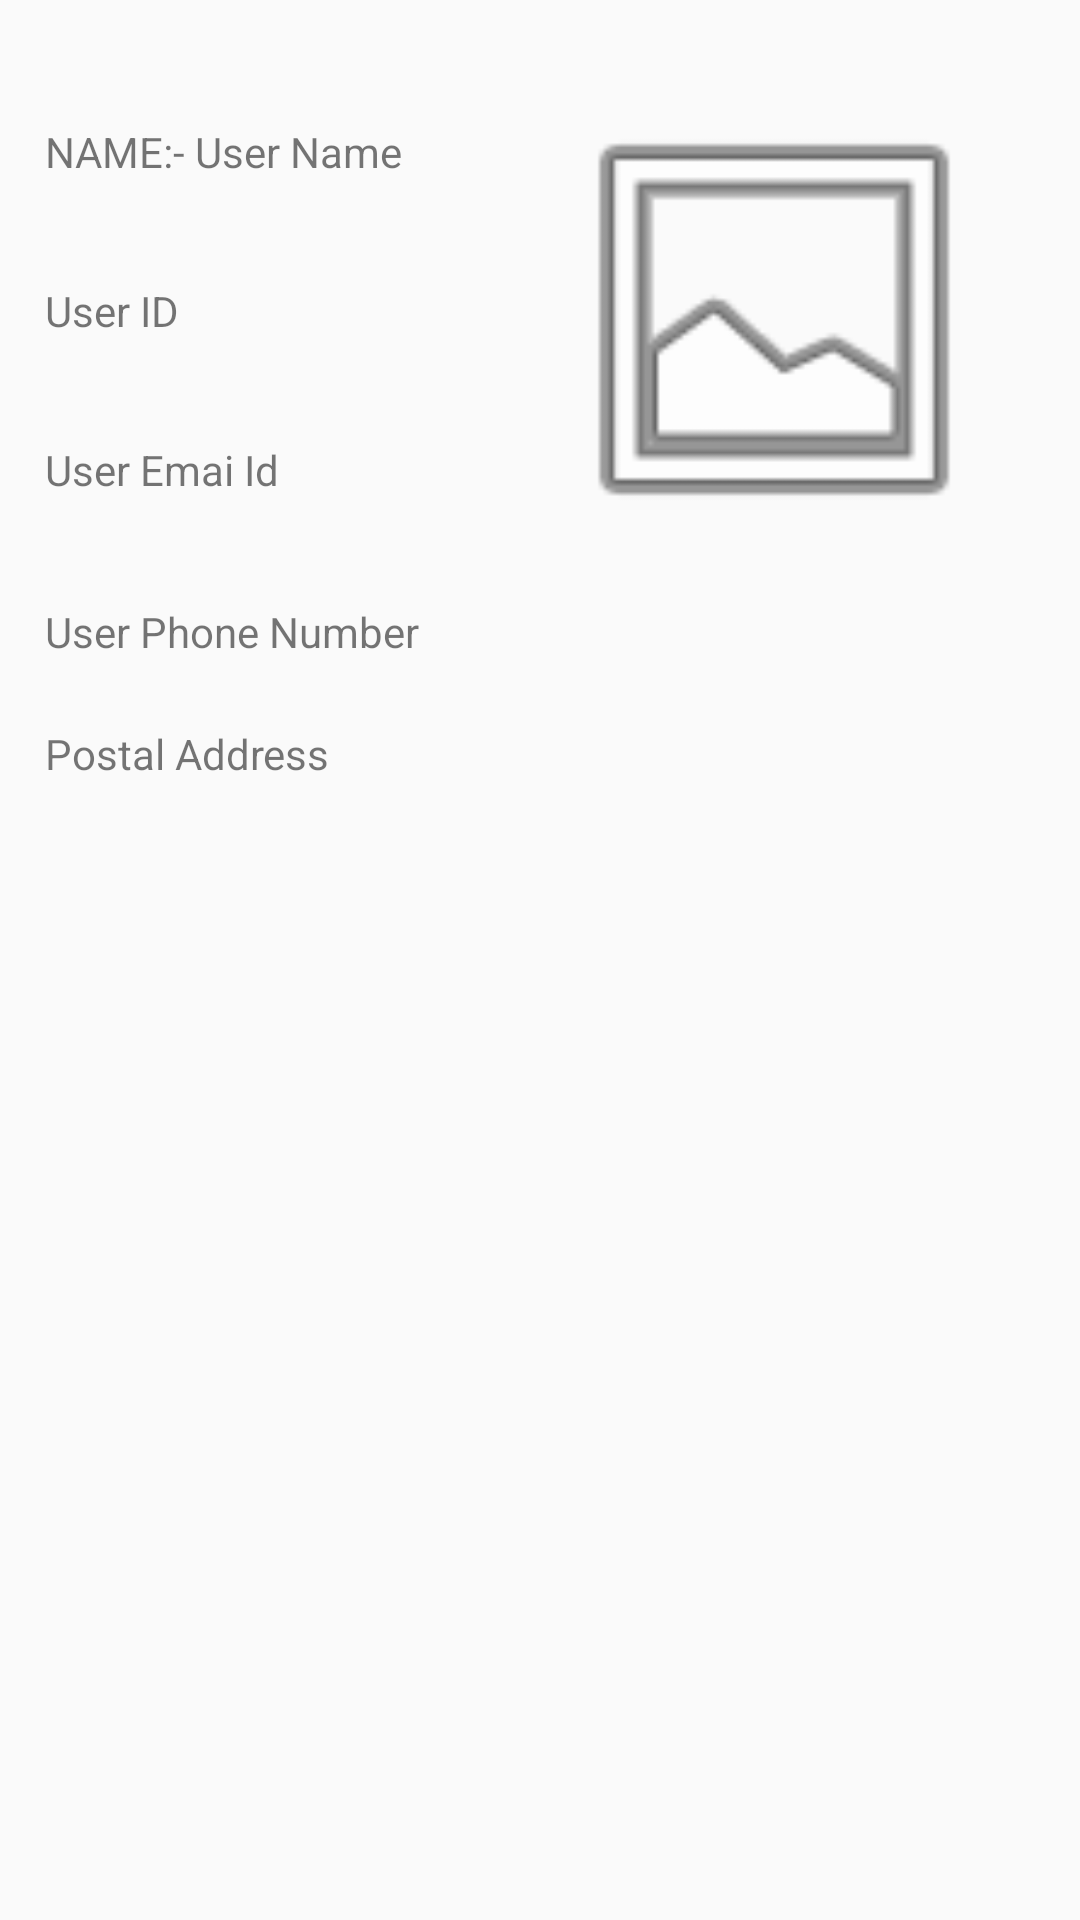

Where icons sit on this 1080px×1920px app screen, as (x1, y1, x2, y2):
gallery: (598, 144, 950, 495)
